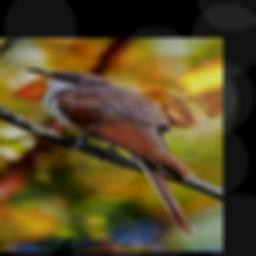Cuckoo: (25, 68, 195, 234)
